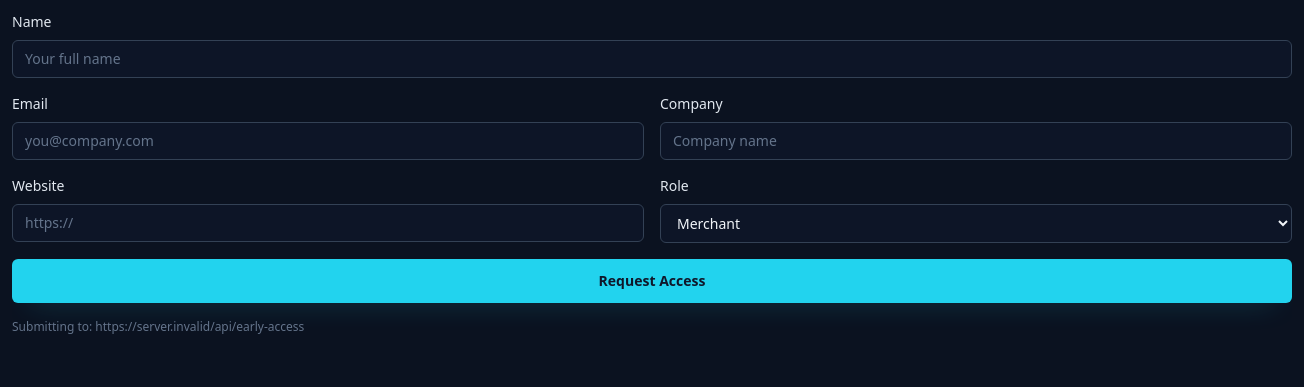
Test case: EarlyAccessForm › maps 400/500 backend responses to safe user-facing errors
This screenshot has width=1304, height=387.
Type "Jane Doe" into the field labelled "Name" at point(652, 59), box [12,40,1292,78]
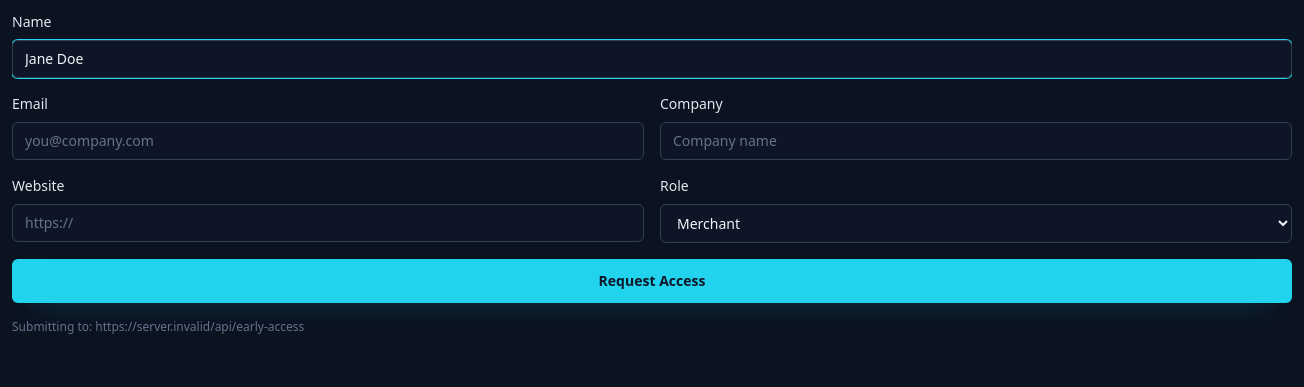
Type "jane@example.com" into the field labelled "Email" at point(328, 141), box [12,122,644,160]
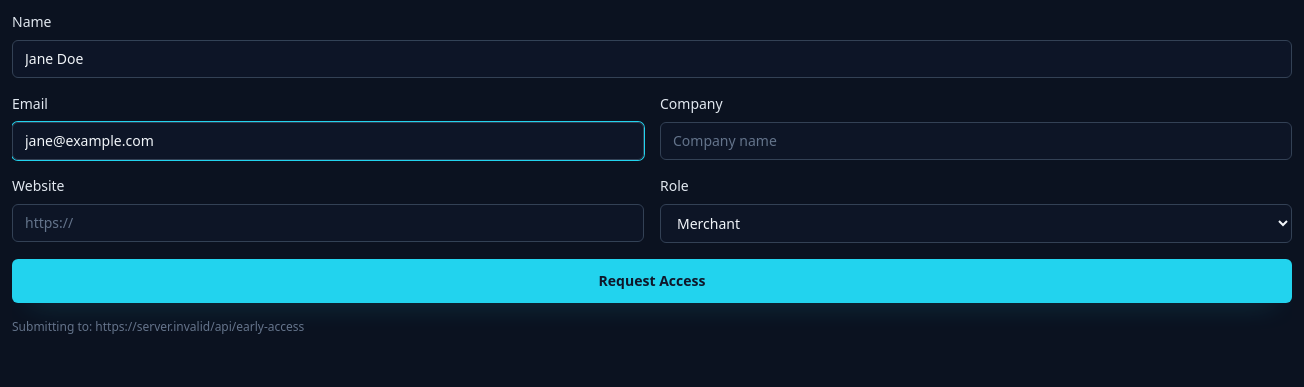
Type "Regulatrix" into the field labelled "Company" at point(976, 141), box [660,122,1292,160]
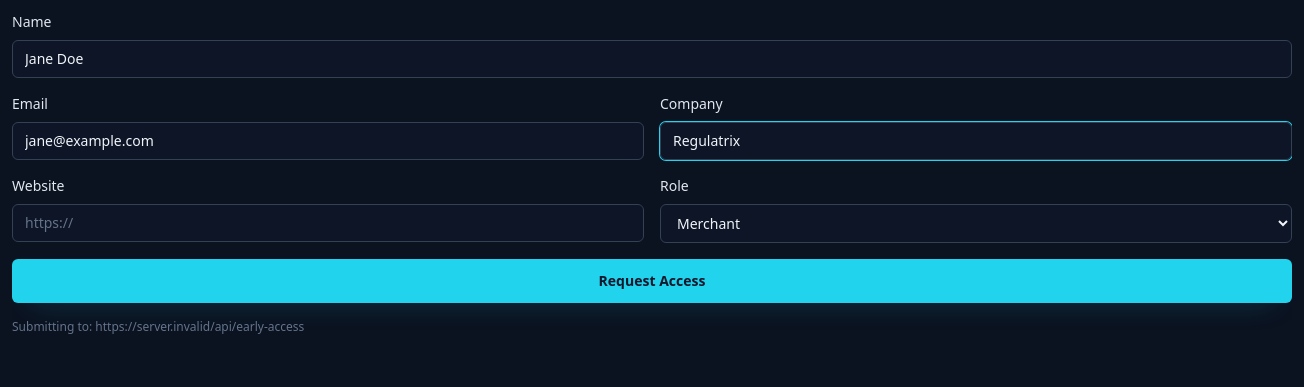
Click the button "Request Access" at point(652, 281), box [12,259,1292,303]
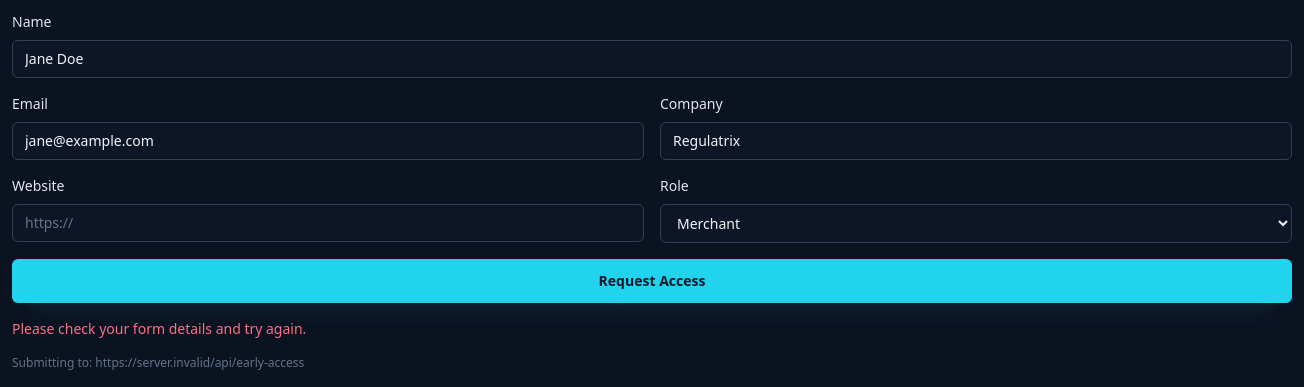
Now the text "Please check your form details and try again." is shown, box [12,319,306,338]
Click the button "Request Access" at point(652, 281), box [12,259,1292,303]
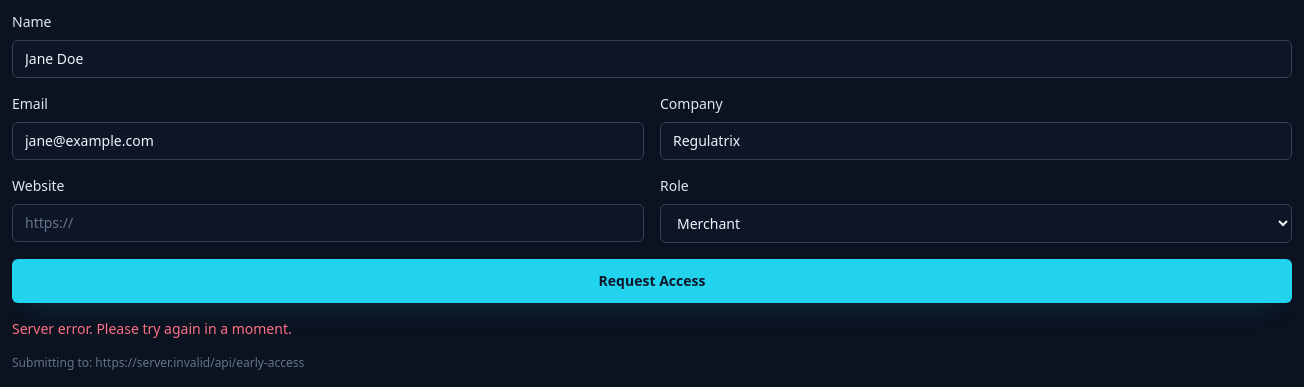
Now the text "Server error. Please try again in a moment." is shown, box [12,319,292,338]
